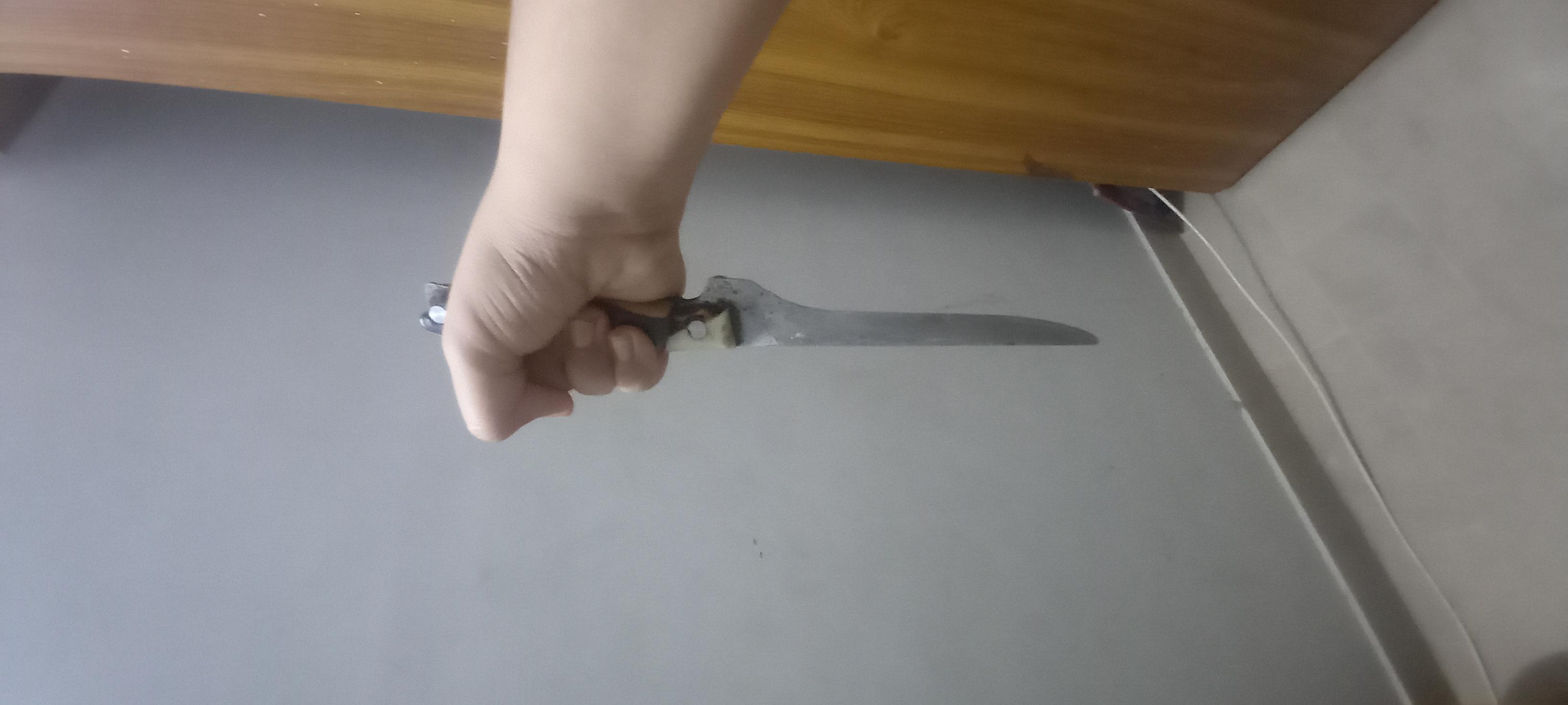knives: (750, 173, 978, 502)
